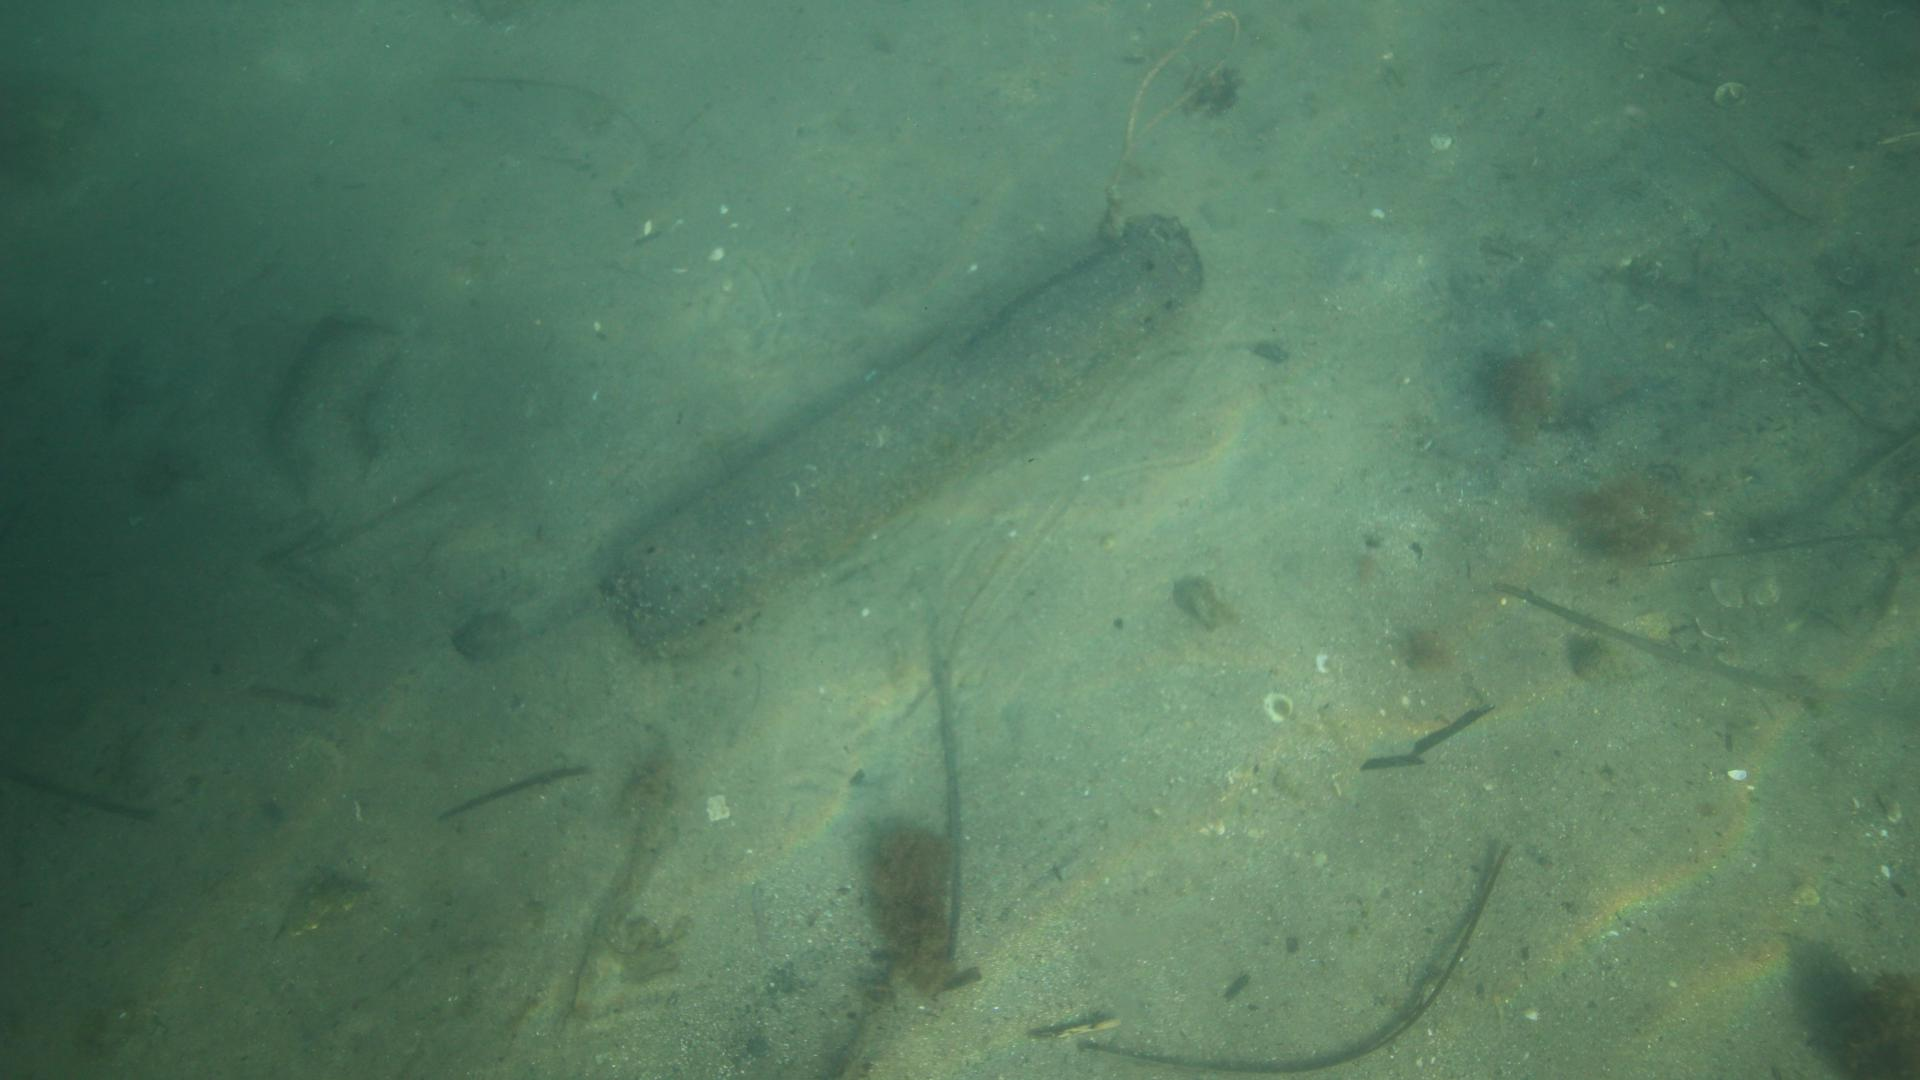bundle of ropes: (1102, 7, 1241, 206)
eel fish trap: (587, 207, 1207, 670)
